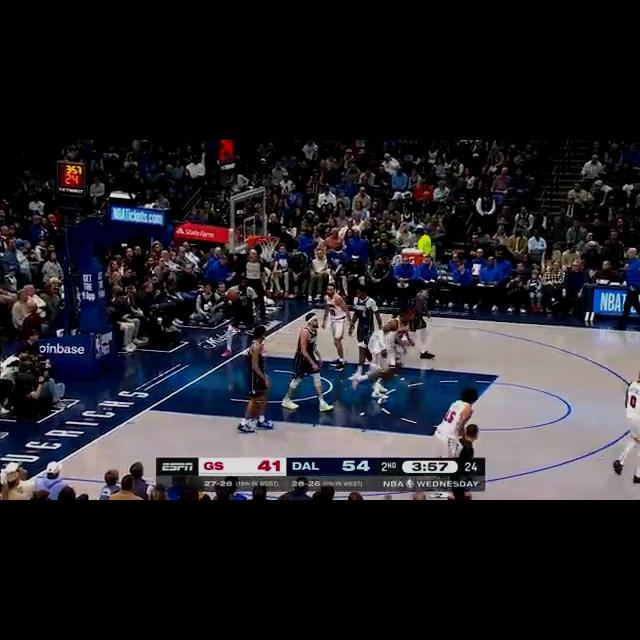Ball: (227, 288, 246, 306)
Team-1-Player: (280, 312, 328, 418), (236, 323, 274, 437), (345, 286, 381, 376), (218, 280, 260, 356), (406, 284, 444, 332)
Team-2-Player: (352, 310, 412, 402), (427, 389, 488, 459), (316, 282, 350, 368), (618, 361, 640, 484)
